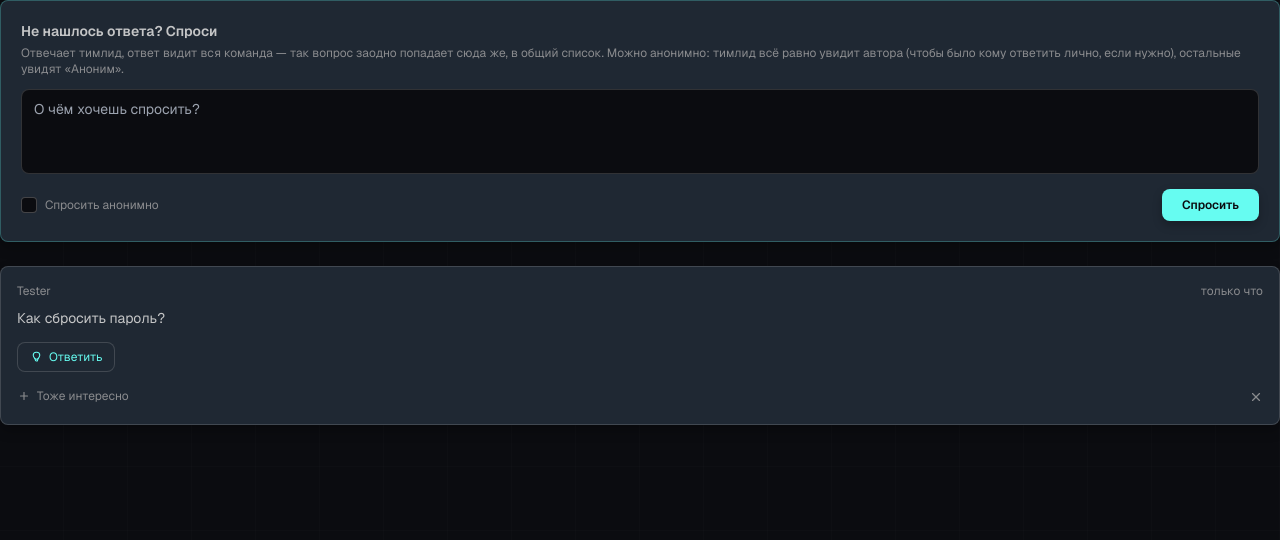
TeamQuestions › a lead can answer a pending question, and it appears immediately without a full reload
Expected: the text "Как сбросить пароль?" is shown, [17,309,165,327]
Click the button "Ответить".
click(66, 357)  # box [17,342,116,372]
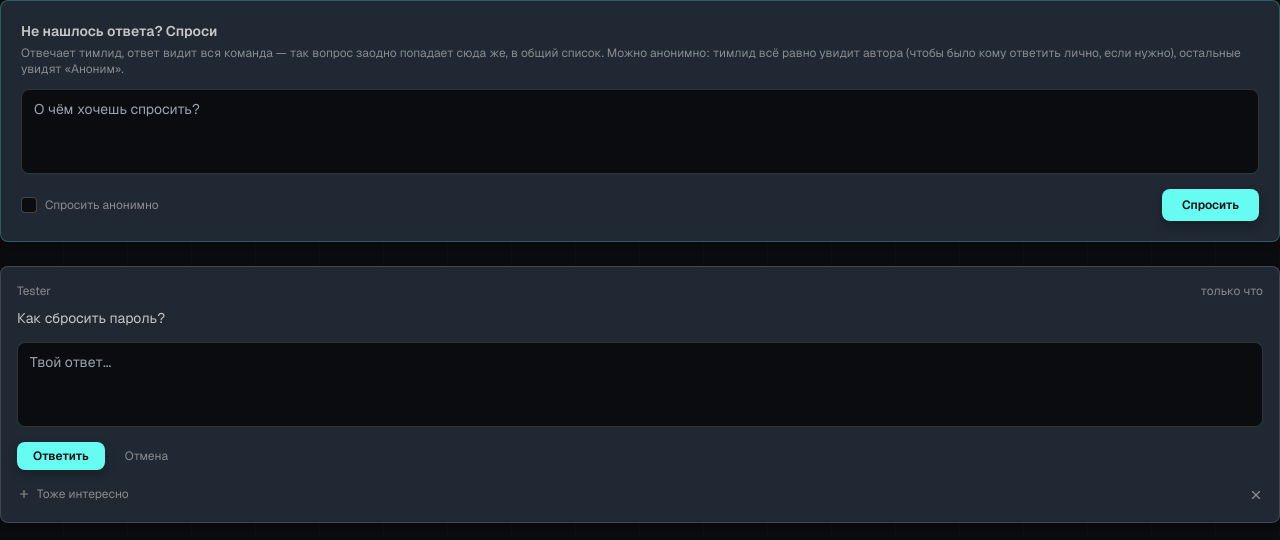
Type "  Через «Забыли пароль»  " into the text box named "Текст ответа".
click(640, 384); type("  Через «Забыли пароль»  ")  # box [17,342,1263,427]
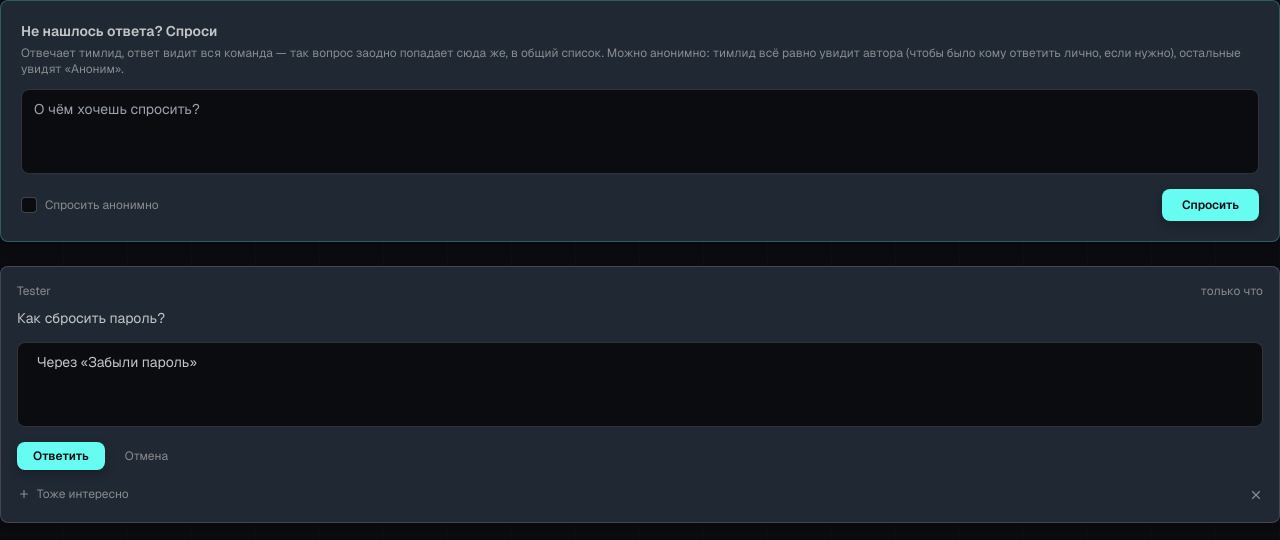
Click the button "Ответить".
click(61, 456)  # box [17,442,105,470]
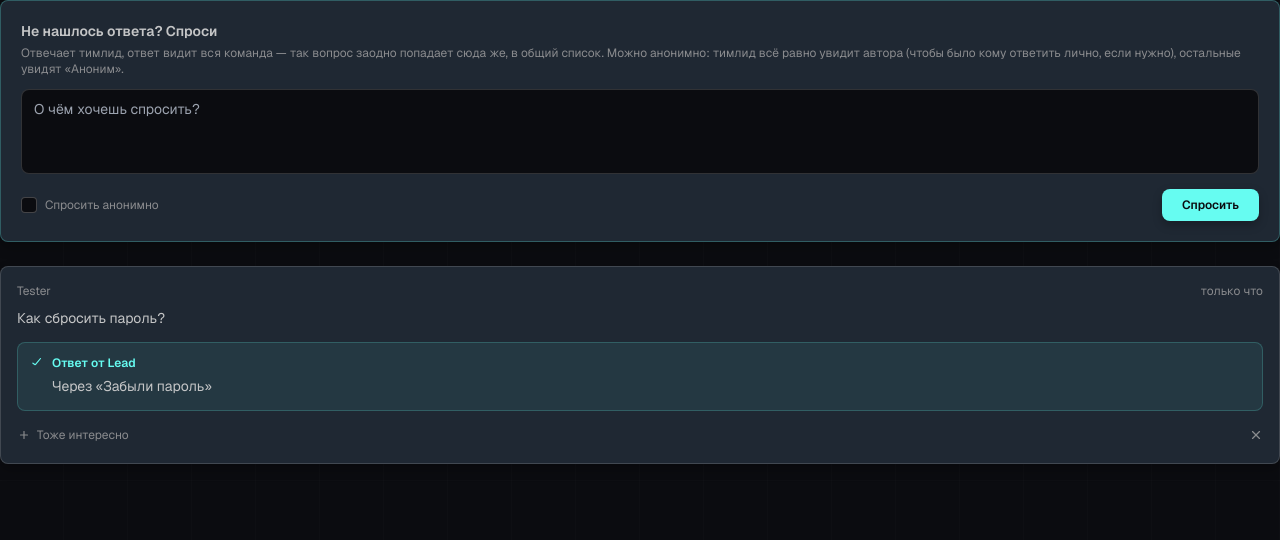
Now the text "Через «Забыли пароль»" is shown, box [52,375,212,398]
